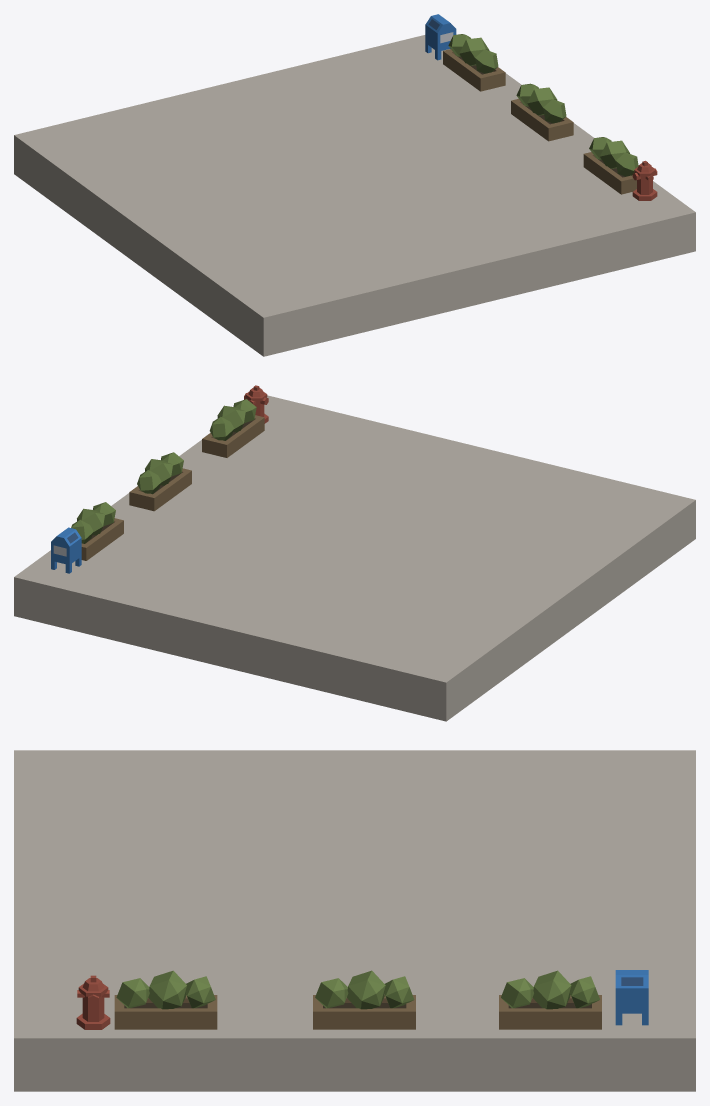
Rendered from Scene-Decorate_A-Decorate_A.glb.
3 renders of one model, top to bottom at view 1: azimuth 30°, elevation 25°; view 2: azimuth 150°, elevation 25°; view 3: azimuth 270°, elevation 25°, orthographic. The views are drawn at different scales.
Parts seen in each view (by area): view 1: Scene-Decorate_A-Decorate_A; view 2: Scene-Decorate_A-Decorate_A; view 3: Scene-Decorate_A-Decorate_A.
Part boxes in pixels (x1,y1,x2,y2): Scene-Decorate_A-Decorate_A: [14, 14, 695, 356]; Scene-Decorate_A-Decorate_A: [14, 385, 695, 721]; Scene-Decorate_A-Decorate_A: [14, 750, 695, 1091].
Size of the model in its own units: 10 by 1.63 by 10.
1 material, 1 textured.
